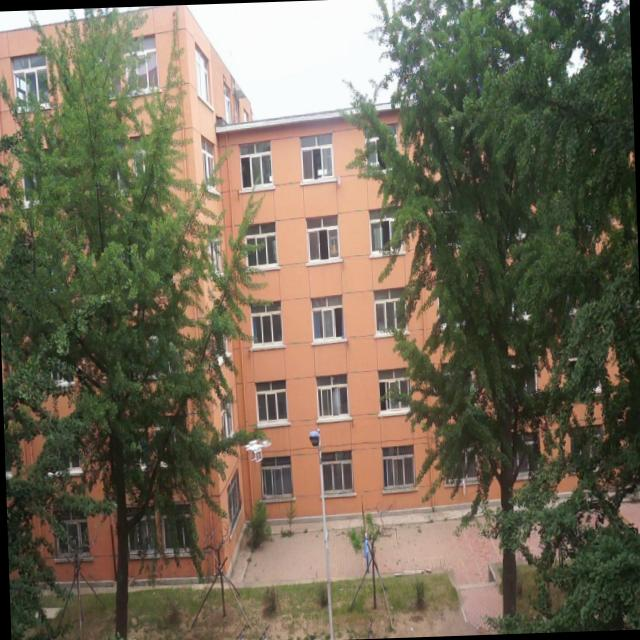drone: (242, 434, 272, 466)
